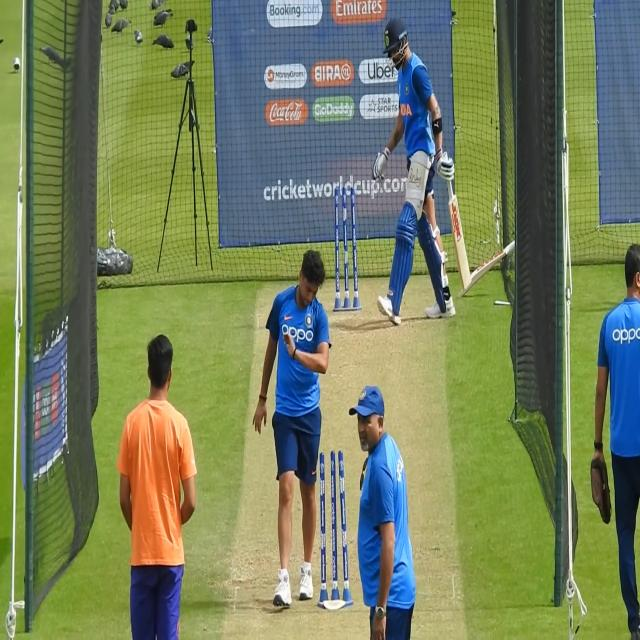stump: (318, 448, 352, 609), (331, 180, 361, 314)
